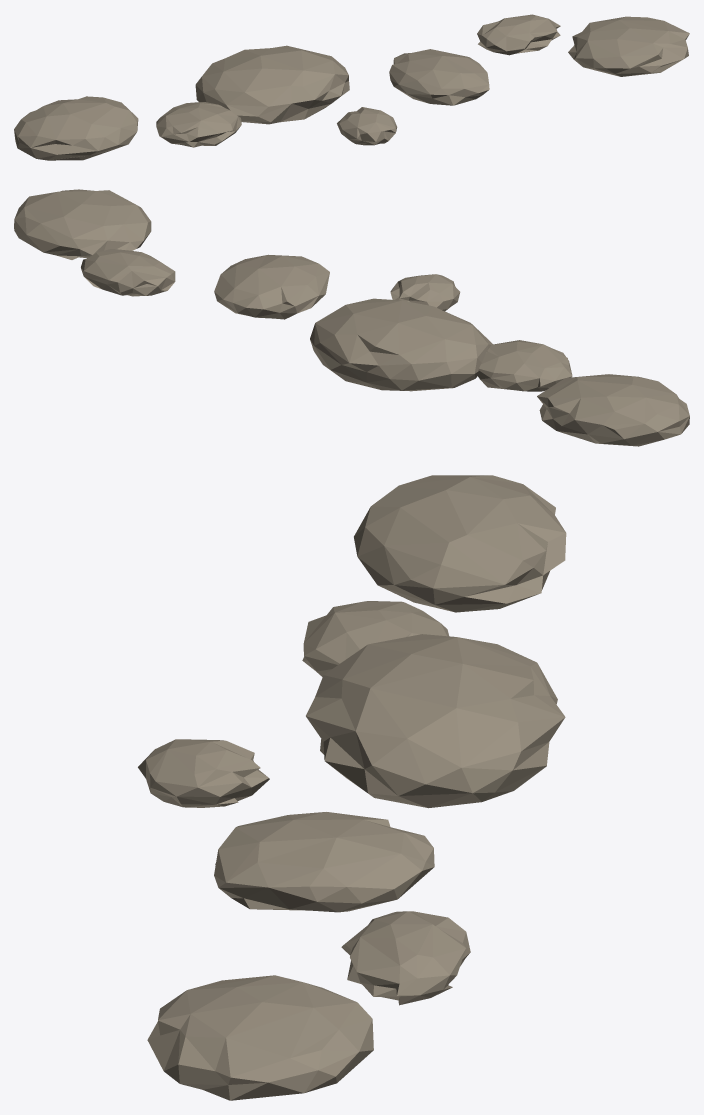
The model's file is rocks_set.glb.
3 views of the same model, one above another, from view 1: azimuth 30°, elevation 25°; view 2: azimuth 150°, elevation 25°; view 3: azimuth 270°, elevation 25° (orthographic). The views are drawn at different scales.
Parts seen in each view (by area): view 1: RocksSet; view 2: RocksSet; view 3: RocksSet.
Boxes of the visible parts, x1,y1,x2,y2 form: RocksSet: (14, 14, 689, 160); RocksSet: (14, 189, 689, 446); RocksSet: (138, 475, 566, 1100).
Bounding box in the file's own units: 48.79 × 3.96 × 14.77.
